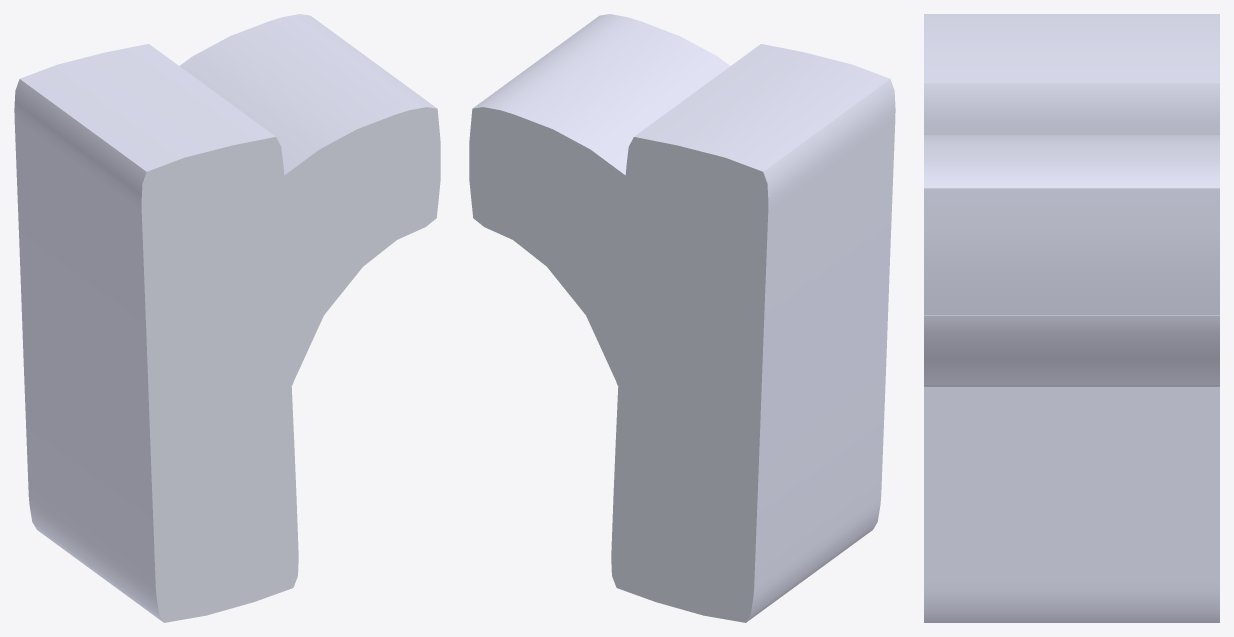
The model's file is R_Zyzol_Grey.glb.
The picture shows the model from 3 angles, left to right: view 1: azimuth 30°, elevation 25°; view 2: azimuth 150°, elevation 25°; view 3: azimuth 270°, elevation 25°; orthographic projection. The views are drawn at different scales.
Visible parts, largest first — view 1: r_Zyzol_Grey; view 2: r_Zyzol_Grey; view 3: r_Zyzol_Grey.
Part boxes in pixels (x1,y1,x2,y2): r_Zyzol_Grey: (14, 14, 440, 622); r_Zyzol_Grey: (469, 14, 895, 622); r_Zyzol_Grey: (924, 14, 1219, 622).
Size of what is drawn, in the model's own units: 0.0611 by 0.0906 by 0.045.
2 materials, 2 textured.
